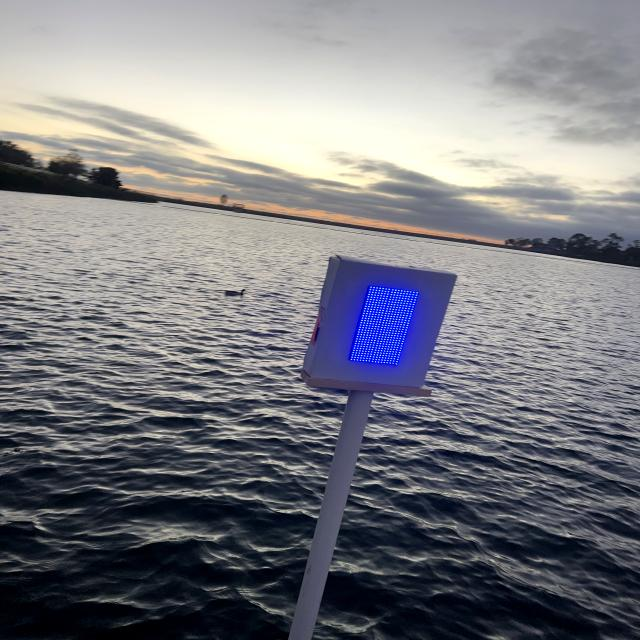led: (329, 268, 427, 388)
